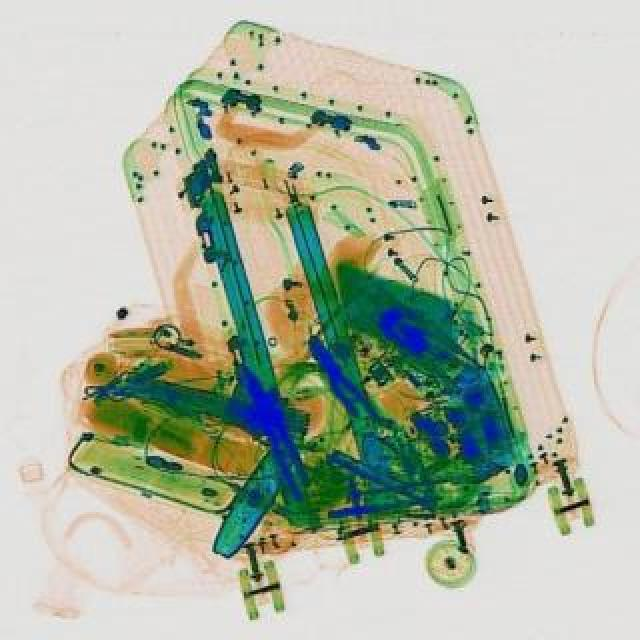wrench: (234, 360, 314, 502), (296, 328, 384, 432)
